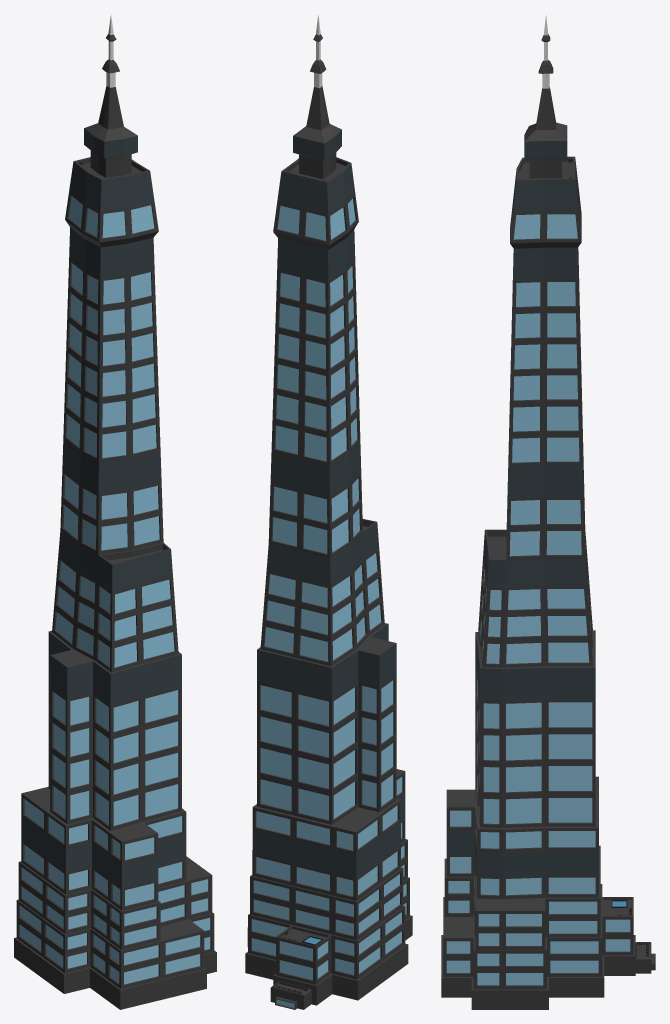
File: skyscraper.fbx
The picture shows the model from 3 angles, left to right: view 1: azimuth 30°, elevation 25°; view 2: azimuth 150°, elevation 25°; view 3: azimuth 270°, elevation 25°; orthographic projection.
Parts seen in each view (by area): view 1: Skyscraper; view 2: Skyscraper; view 3: Skyscraper.
Part boxes in pixels (x1=…): Skyscraper: x1=14, y1=14, x2=216, y2=1009; Skyscraper: x1=245, y1=15, x2=412, y2=1009; Skyscraper: x1=441, y1=15, x2=655, y2=1009.
Size of the model in its own units: 5.69 by 37.46 by 7.57.
1 material, 1 textured.
